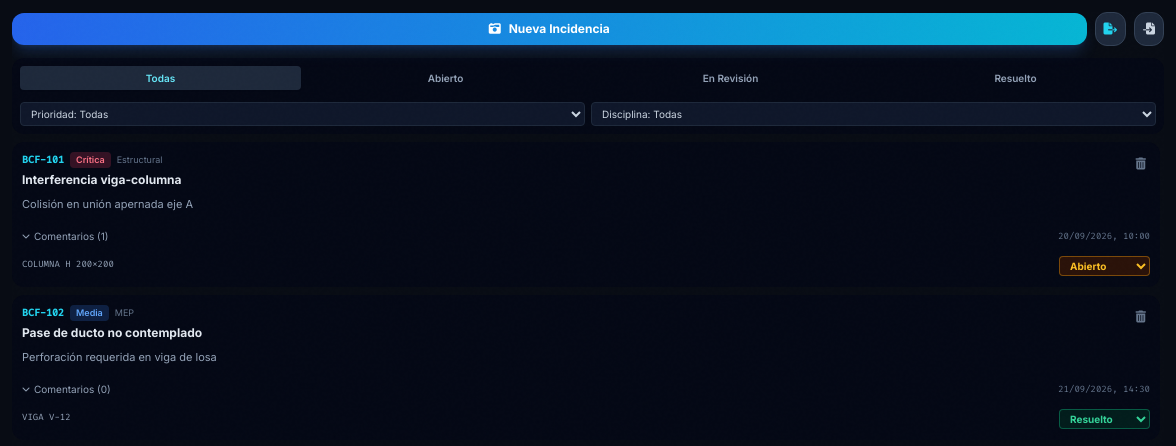
Test case: IfcBcfManager - Gestión de Incidencias BCF (Fase 5) › renderiza la lista de incidencias y permite filtrar por estado, prioridad y disciplina
Expected: the heading "Interferencia viga-columna" is shown, [22, 172, 182, 187]
Expected: the heading "Pase de ducto no contemplado" is shown, [22, 325, 202, 340]
Filtrar por Estado: botón 'Abierto'
Click the button "Abierto" at (446, 78), box [305, 66, 586, 90]
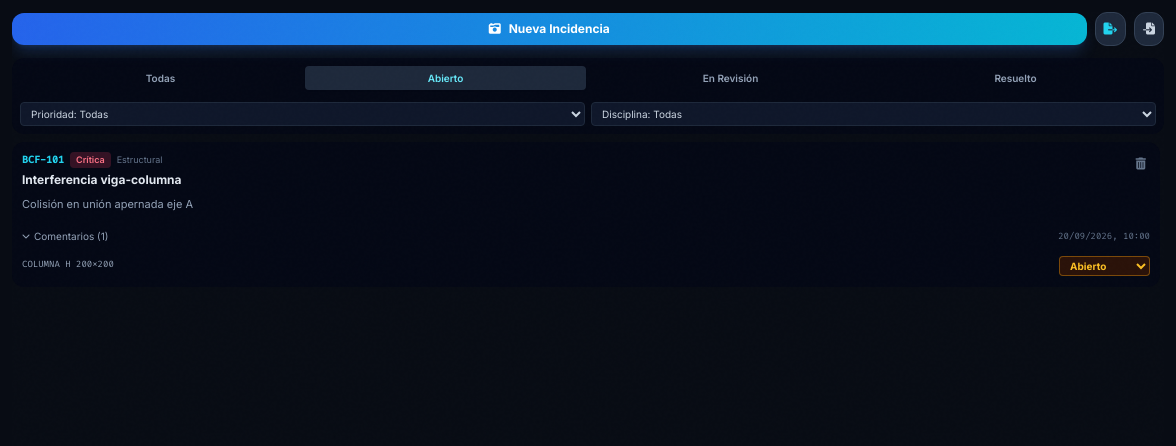
Expected: the heading "Interferencia viga-columna" is shown, [22, 172, 182, 187]
Result: the heading "Pase de ducto no contemplado" is gone
Filtrar por Disciplina: MEP (con estado abierto no debe haber resultados)
Select "MEP" in the dropdown named "Filtrar por disciplina" at (874, 114), box [591, 102, 1156, 126]
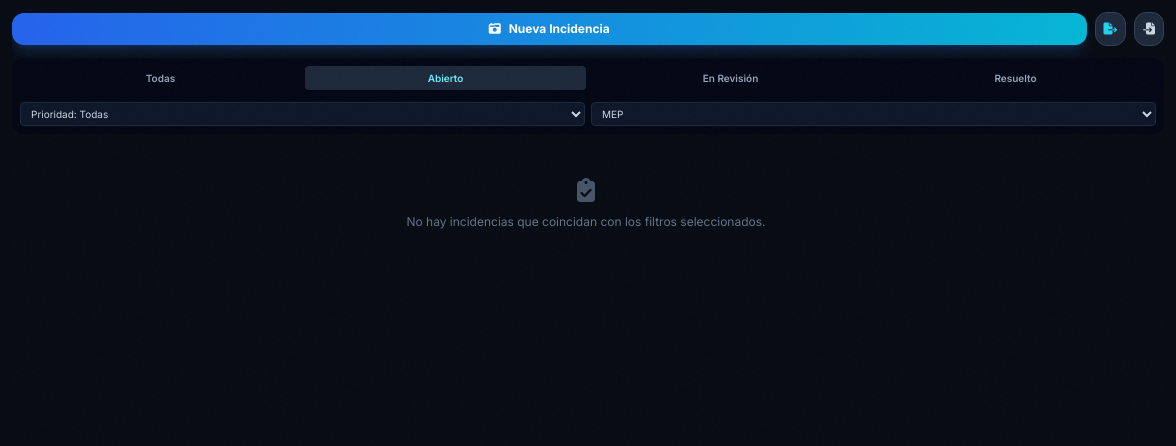
Expected: the heading "Pase de ducto no contemplado" is not shown
Result: the heading "Interferencia viga-columna" is gone
Result: the text "No hay incidencias que coincidan con los filtros" is shown at [406, 214, 766, 229]
